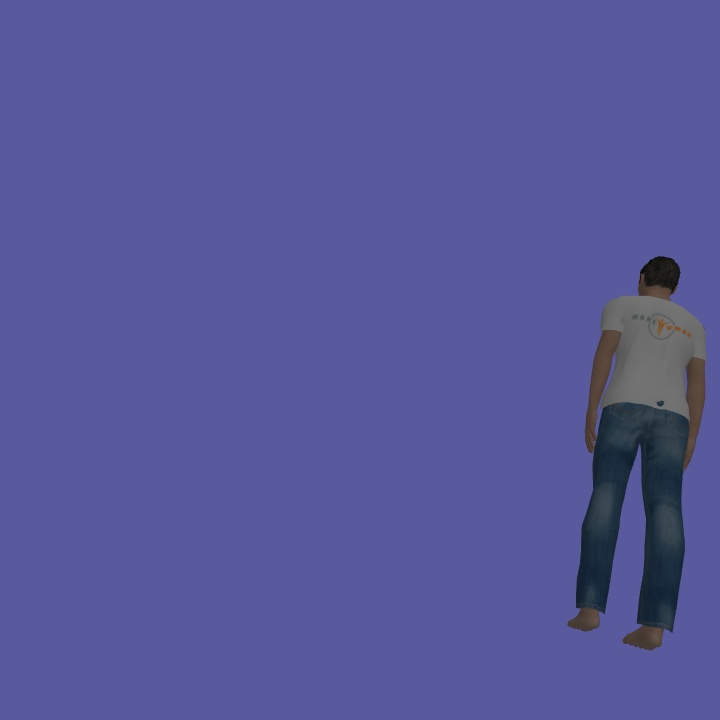victim: (562, 252, 710, 651)
